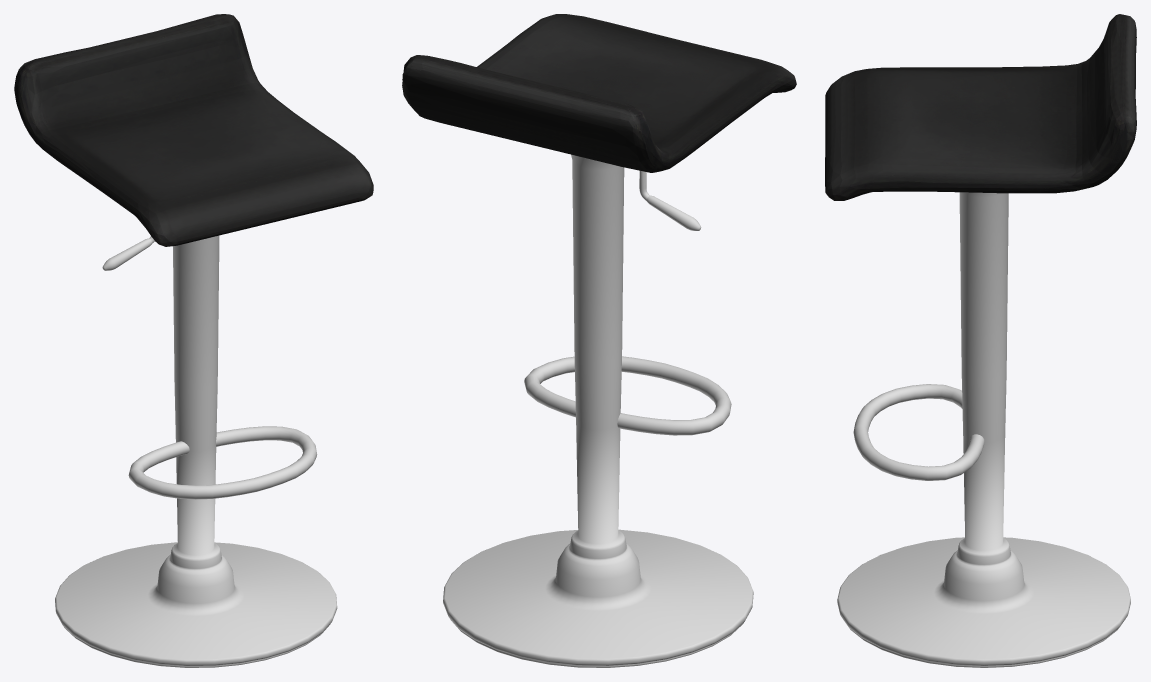
File: Ale-Bar-Stool.glb
The picture shows the model from 3 angles, left to right: view 1: azimuth 30°, elevation 25°; view 2: azimuth 150°, elevation 25°; view 3: azimuth 270°, elevation 25°; orthographic projection. The views are drawn at different scales.
Parts seen in each view (by area): view 1: Ale Bar Stool Seat, Ale Bar Stool Base; view 2: Ale Bar Stool Base, Ale Bar Stool Seat; view 3: Ale Bar Stool Base, Ale Bar Stool Seat.
Boxes of the visible parts, box(x1,y1,x2,y2) form: Ale Bar Stool Seat: box(14, 14, 373, 246); Ale Bar Stool Base: box(55, 235, 337, 667); Ale Bar Stool Base: box(443, 154, 753, 667); Ale Bar Stool Seat: box(402, 14, 796, 172); Ale Bar Stool Base: box(837, 192, 1130, 667); Ale Bar Stool Seat: box(825, 14, 1136, 200).
Size of the model in its own units: 0.436 by 0.8909 by 0.4625.
Materials: 2 (1 with a texture image).
